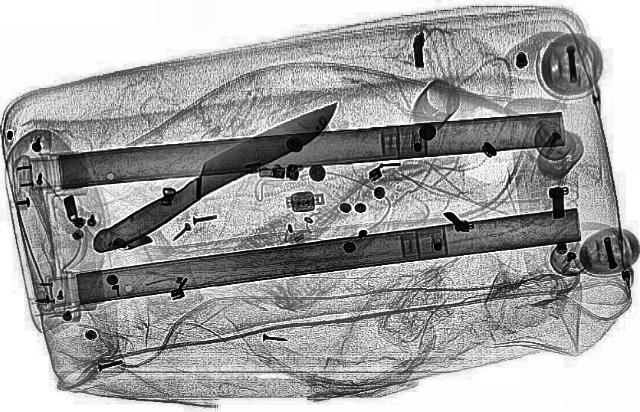Knife: (74, 93, 354, 259)
